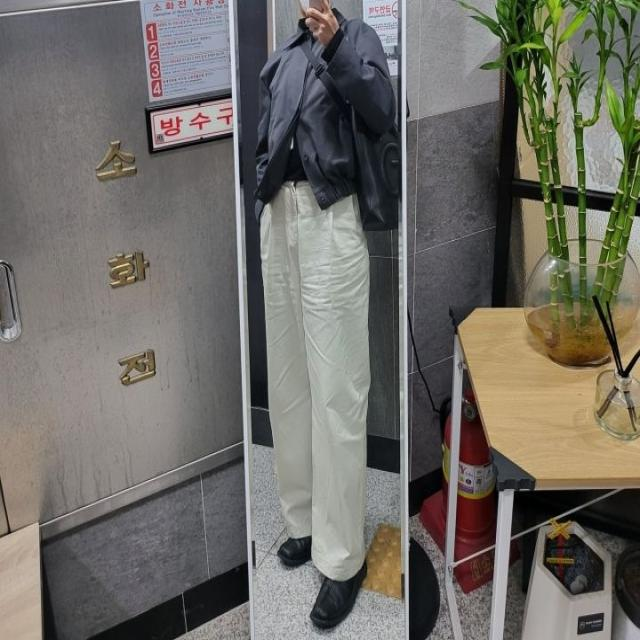cottonpants: (260, 176, 368, 584)
jacket: (255, 17, 396, 219)
